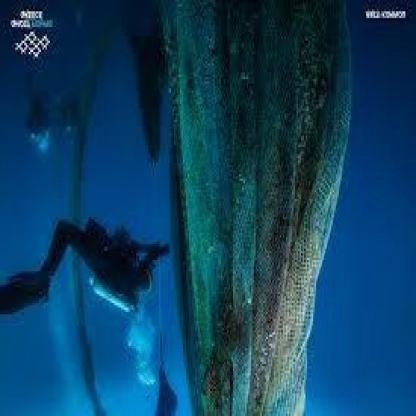net: (176, 7, 346, 414)
